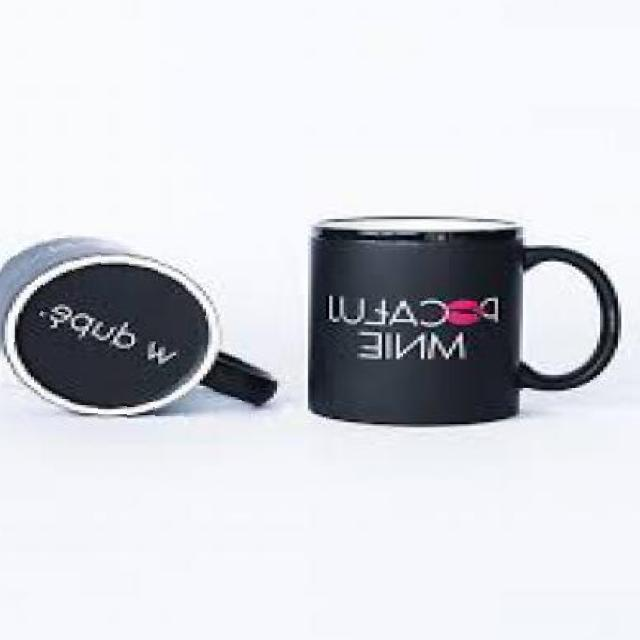cup: (300, 206, 627, 435), (0, 228, 289, 431)
